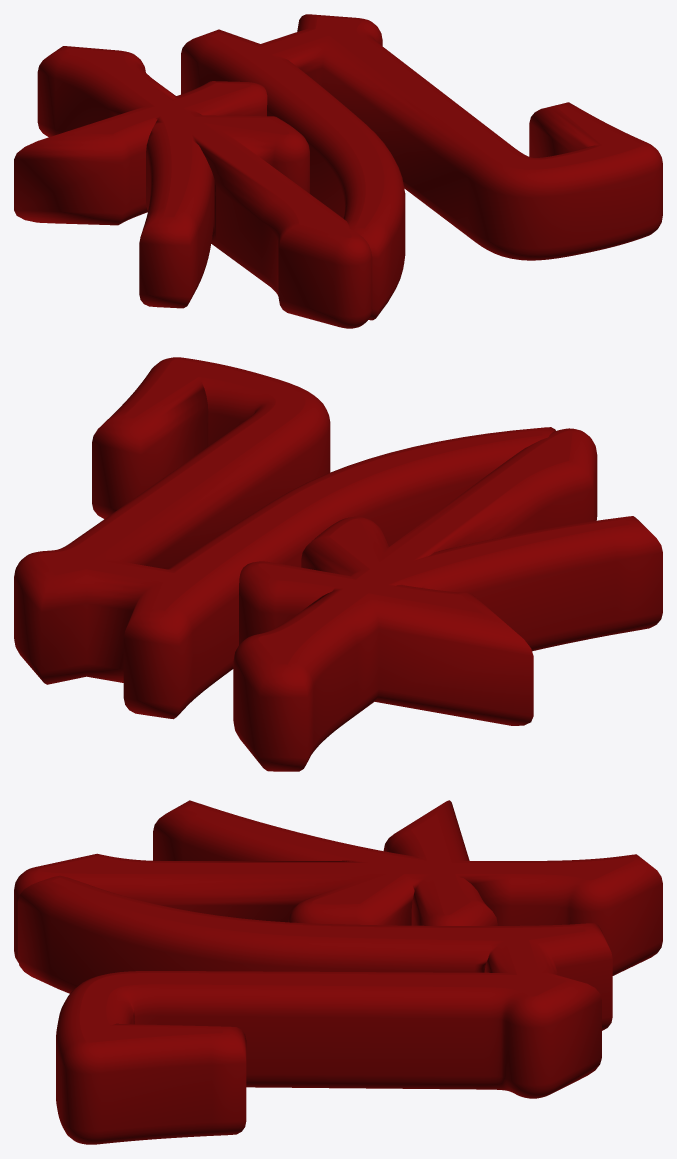
3 views of the same model, one above another, from view 1: azimuth 30°, elevation 25°; view 2: azimuth 150°, elevation 25°; view 3: azimuth 270°, elevation 25° (orthographic). The views are drawn at different scales.
Visible parts, largest first — view 1: Text; view 2: Text; view 3: Text.
Part boxes in pixels (left/top/right/bottom): Text: left=14, top=14, right=662, bottom=328; Text: left=14, top=357, right=662, bottom=771; Text: left=14, top=800, right=662, bottom=1144.
Size of the model in its own units: 79.83 by 14 by 82.16.
